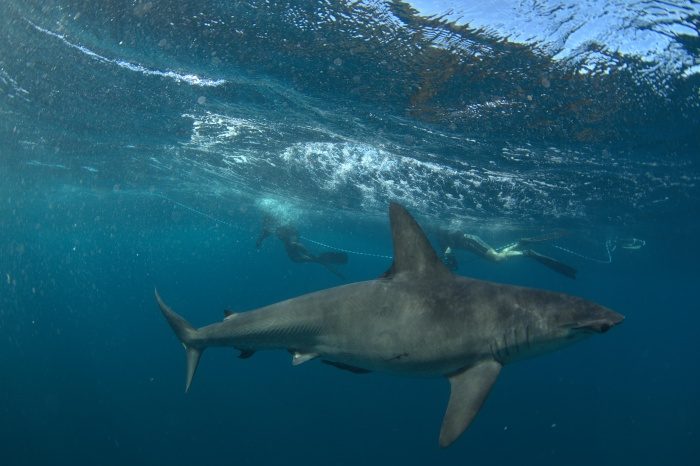Hammer: (140, 172, 656, 457)
